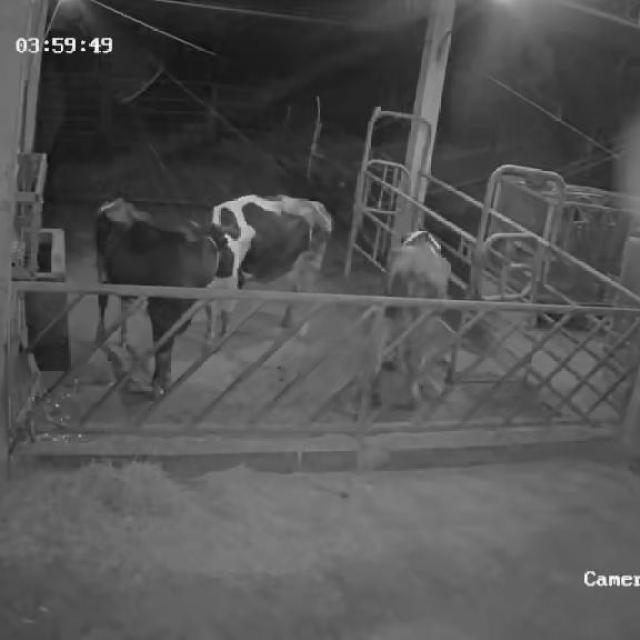standing: (100, 195, 224, 388), (205, 189, 331, 349), (370, 232, 450, 408)
